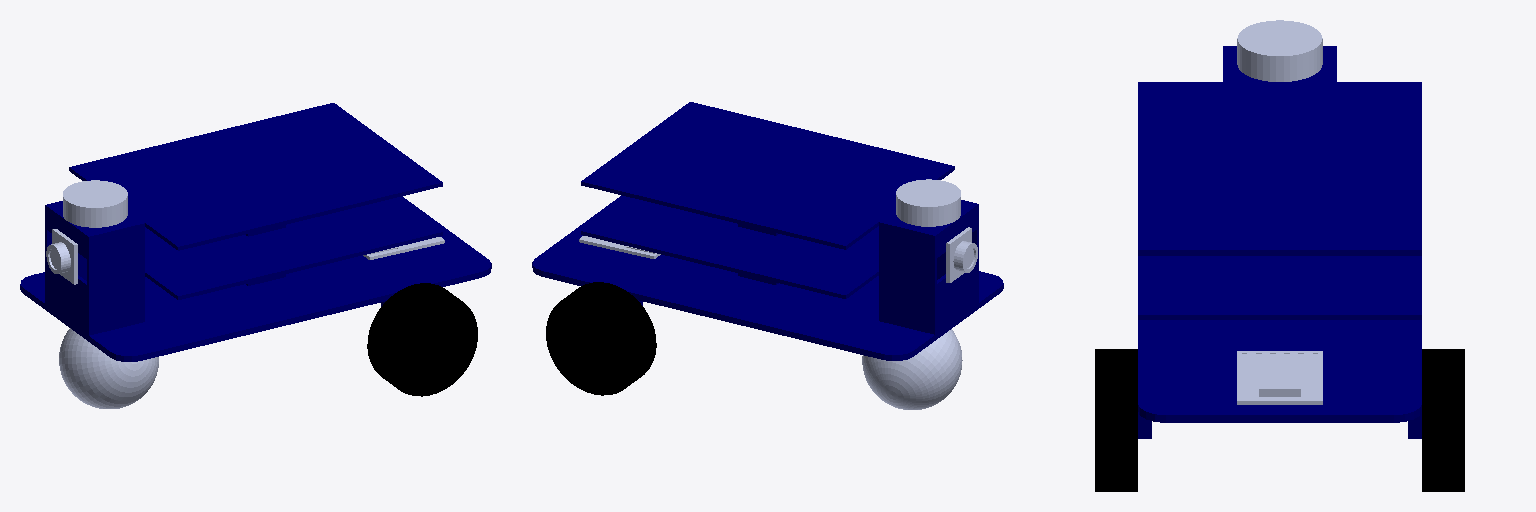
URDF robot description (Matrix_bot):
<?xml version="1.0" encoding="utf-8"?>
<robot name="Matrix_bot">
  <link name="base_link">
    <inertial>
      <origin xyz="0 0 0" rpy="0 0 0"/>
      <mass value="2.0"/>
      <inertia ixx="0.02" ixy="0.0" ixz="0.0"
               iyy="0.02" iyz="0.0"
               izz="0.03"/>
    </inertial>
    <visual>
      <origin xyz="0 0 0" rpy="0 0 0"/>
      <geometry>
        <mesh filename="package://matrix_bot/meshes/base_link.STL"/>
      </geometry>
      <material name="">
        <color rgba="0 0 0.5 1"/>
      </material>
    </visual>
    <collision>
      <origin xyz="0 0 0" rpy="0 0 0"/>
      <geometry>
        <mesh filename="package://matrix_bot/meshes/base_link.STL"/>
      </geometry>
    </collision>
  </link>
  
  <link name="left_wheel">
    <inertial>
      <origin xyz="0 0 0" rpy="0 0 0"/>
      <mass value="0.2"/>
      <inertia ixx="0.001" ixy="0.0" ixz="0.0"
               iyy="0.001" iyz="0.0"
               izz="0.0015"/>
    </inertial>
    <visual>
      <origin xyz="0 0 0" rpy="0 0 0"/>
      <geometry>
        <mesh filename="package://matrix_bot/meshes/left_wheel.STL"/>
      </geometry>
      <material name="">
        <color rgba="0 0 0 1"/>
      </material>
    </visual>
    <collision>
      <origin xyz="0 0 0" rpy="0 0 0"/>
      <geometry>
        <mesh filename="package://matrix_bot/meshes/left_wheel.STL"/>
      </geometry>
    </collision>
  </link>

  <joint name="left_wheel_joint" type="continuous">
    <origin xyz="0.15278 -0.19761 0.07511" rpy="1.5708 1.2605 0"/>
    <parent link="base_link"/>
    <child link="left_wheel"/>
    <axis xyz="0 0 1"/>
  </joint>

  <link name="right_wheel">
    <inertial>
      <origin xyz="0 0 0" rpy="0 0 0"/>
      <mass value="0.2"/>
      <inertia ixx="0.001" ixy="0.0" ixz="0.0"
               iyy="0.001" iyz="0.0"
               izz="0.0015"/>
    </inertial>
    <visual>
      <origin xyz="0 0 0" rpy="0 0 0"/>
      <geometry>
        <mesh filename="package://matrix_bot/meshes/right_wheel.STL"/>
      </geometry>
      <material name="">
        <color rgba="0 0 0 1"/>
      </material>
    </visual>
    <collision>
      <origin xyz="0 0 0" rpy="0 0 0"/>
      <geometry>
        <mesh filename="package://matrix_bot/meshes/right_wheel.STL"/>
      </geometry>
    </collision>
  </link>

  <joint name="right_wheel_joint" type="continuous">
    <origin xyz="0.15278 -0.082606 0.07511" rpy="1.5708 1.2605 0"/>
    <parent link="base_link"/>
    <child link="right_wheel"/>
    <axis xyz="0 0 1"/>
  </joint>

  <link name="camera">
    <inertial>
      <origin xyz="0 0 0" rpy="0 0 0"/>
      <mass value="0.1"/>
      <inertia ixx="0.0005" ixy="0.0" ixz="0.0"
               iyy="0.0005" iyz="0.0"
               izz="0.0005"/>
    </inertial>
    <visual>
      <origin xyz="0 0 0" rpy="0 0 0"/>
      <geometry>
        <mesh filename="package://matrix_bot/meshes/camera.STL"/>
      </geometry>
      <material name="">
        <color rgba="0.79 0.82 0.93 1"/>
      </material>
    </visual>
    <collision>
      <origin xyz="0 0 0" rpy="0 0 0"/>
      <geometry>
        <mesh filename="package://matrix_bot/meshes/camera.STL"/>
      </geometry>
    </collision>
  </link>

  <joint name="camera_joint" type="fixed">
    <origin xyz="-0.00222 -0.14781 0.13036" rpy="-1.5708 0 -3.1416"/>
    <parent link="base_link"/>
    <child link="camera"/>
    <axis xyz="0 0 0"/>
  </joint>

  <link name="imu_sensor">
    <inertial>
      <origin xyz="0 0 0" rpy="0 0 0"/>
      <mass value="0.1"/>
      <inertia ixx="0.0005" ixy="0.0" ixz="0.0"
               iyy="0.0005" iyz="0.0"
               izz="0.0005"/>
    </inertial>
    <visual>
      <origin xyz="0 0 0" rpy="0 0 0"/>
      <geometry>
        <mesh filename="package://matrix_bot/meshes/imu_sensor.STL"/>
      </geometry>
      <material name="">
        <color rgba="0.79 0.82 0.93 1"/>
      </material>
    </visual>
    <collision>
      <origin xyz="0 0 0" rpy="0 0 0"/>
      <geometry>
        <mesh filename="package://matrix_bot/meshes/imu_sensor.STL"/>
      </geometry>
    </collision>
  </link>

  <joint name="imu_sensor_joint" type="fixed">
    <origin xyz="0.16926 -0.14761 0.098569" rpy="1.5708 0.016066 0"/>
    <parent link="base_link"/>
    <child link="imu_sensor"/>
    <axis xyz="0 0 0"/>
  </joint>

  <link name="castor_wheel">
    <inertial>
      <origin xyz="0 0 0" rpy="0 0 0"/>
      <mass value="0.2"/>
      <inertia ixx="0.001" ixy="0.0" ixz="0.0"
               iyy="0.001" iyz="0.0"
               izz="0.001"/>
    </inertial>
    <visual>
      <origin xyz="0 0 0" rpy="0 0 0"/>
      <geometry>
        <mesh filename="package://matrix_bot/meshes/castor_wheel.STL"/>
      </geometry>
      <material name="">
        <color rgba="0.79 0.82 0.93 1"/>
      </material>
    </visual>
    <collision>
      <origin xyz="0 0 0" rpy="0 0 0"/>
      <geometry>
        <mesh filename="package://matrix_bot/meshes/castor_wheel.STL"/>
      </geometry>
    </collision>
  </link>

  <joint name="castor_wheel_joint" type="fixed">
    <origin xyz="0.02078 -0.11267 0.072307" rpy="2.6965 -0.45783 0.27225"/>
    <parent link="base_link"/>
    <child link="castor_wheel"/>
    <axis xyz="0 0 0"/>
  </joint>

  <link name="lidar_sensor">
    <inertial>
      <origin xyz="0 0 0" rpy="0 0 0"/>
      <mass value="0.1"/>
      <inertia ixx="0.0005" ixy="0.0" ixz="0.0"
               iyy="0.0005" iyz="0.0"
               izz="0.0005"/>
    </inertial>
    <visual>
      <origin xyz="0 0 0" rpy="0 0 0"/>
      <geometry>
        <mesh filename="package://matrix_bot/meshes/lidar_sensor.STL"/>
      </geometry>
      <material name="">
        <color rgba="0.79 0.82 0.93 1"/>
      </material>
    </visual>
    <collision>
      <origin xyz="0 0 0" rpy="0 0 0"/>
      <geometry>
        <mesh filename="package://matrix_bot/meshes/lidar_sensor.STL"/>
      </geometry>
    </collision>
  </link>

  <joint name="lidar_sensor_joint" type="fixed">
    <origin xyz="0.01278 -0.14761 0.14811" rpy="1.5708 0 0"/>
    <parent link="base_link"/>
    <child link="lidar_sensor"/>
    <axis xyz="0 0 0"/>
  </joint>
</robot>

--- Facts derived from the render (not from the file) ---
Views: 3 orthographic renders of the robot side by side, from view 1: azimuth 30°, elevation 25°; view 2: azimuth 150°, elevation 25°; view 3: azimuth 270°, elevation 25°.
Model Matrix_bot with 7 links and 6 joints (2 continuous, 4 fixed), rooted at base_link, posed every joint at zero.
Visible links, largest first — view 1: base_link, left_wheel, castor_wheel, lidar_sensor, camera, imu_sensor; view 2: base_link, right_wheel, castor_wheel, lidar_sensor, camera, imu_sensor; view 3: base_link, left_wheel, right_wheel, imu_sensor, lidar_sensor.
Boxes of the visible links, x1,y1,x2,y2 form: base_link: (20,103,491,361); left_wheel: (367,283,477,396); castor_wheel: (59,328,158,408); lidar_sensor: (63,180,127,227); camera: (46,229,77,284); imu_sensor: (363,237,444,259); base_link: (532,102,1003,360); right_wheel: (546,282,656,395); castor_wheel: (862,329,962,409); lidar_sensor: (896,179,960,226); camera: (946,227,977,282); imu_sensor: (579,236,660,258); base_link: (1138,46,1421,438); left_wheel: (1095,349,1137,491); right_wheel: (1422,349,1464,491); imu_sensor: (1237,351,1322,404); lidar_sensor: (1237,20,1322,81).
Bounding box of the posed robot: 0.207 × 0.13 × 0.1088 m (x, y, z).
7 mesh visuals loaded from 7 distinct referenced files (7 binary STL).